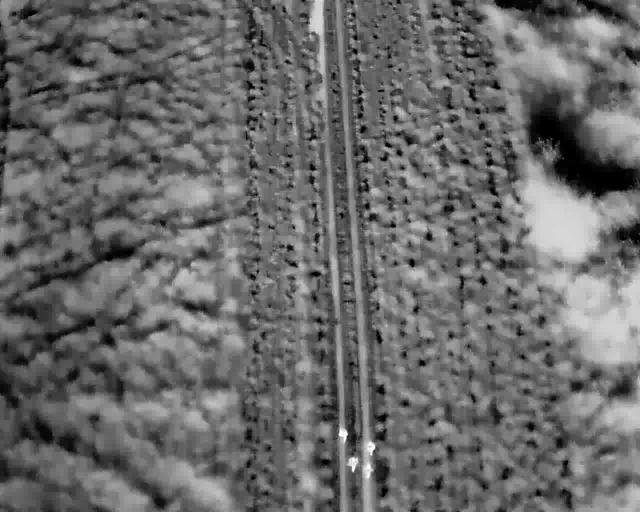person: (345, 453, 360, 474), (336, 425, 348, 446), (362, 463, 374, 481), (365, 438, 376, 457)
